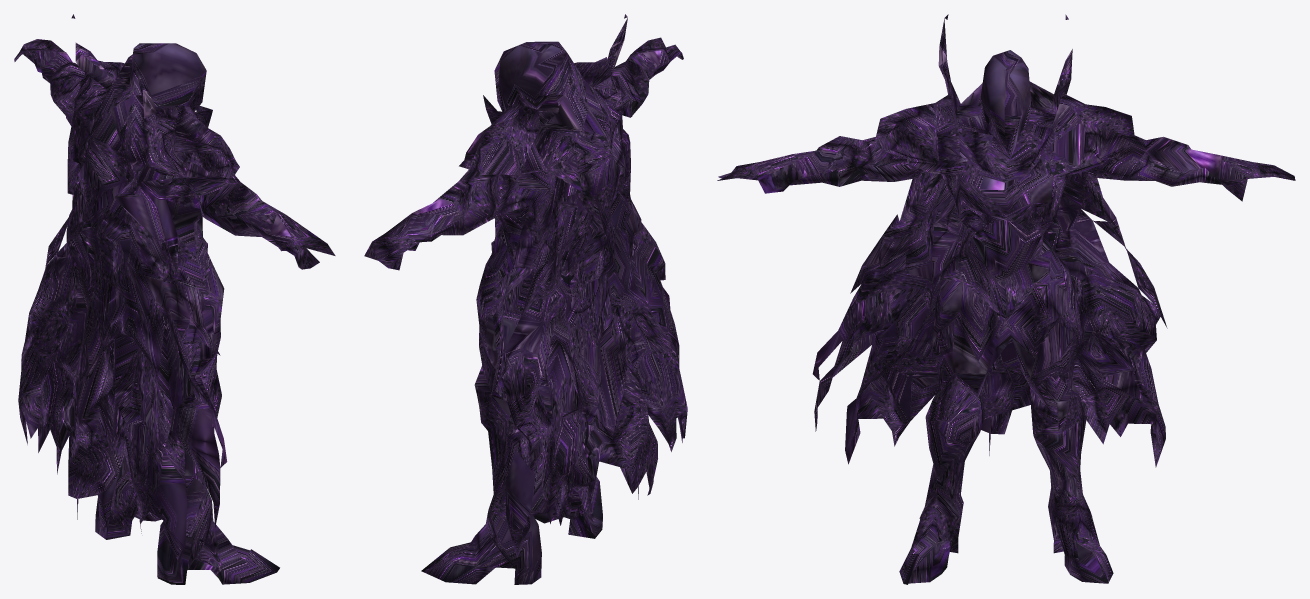
Rendered from hollow-commander.glb.
3 renders of one model, left to right at view 1: azimuth 30°, elevation 25°; view 2: azimuth 150°, elevation 25°; view 3: azimuth 270°, elevation 25°, orthographic. The views are drawn at different scales.
Bounding box in the file's own units: 0.3207 × 0.9998 × 1.02.
Materials: 1 (1 with a texture image).
